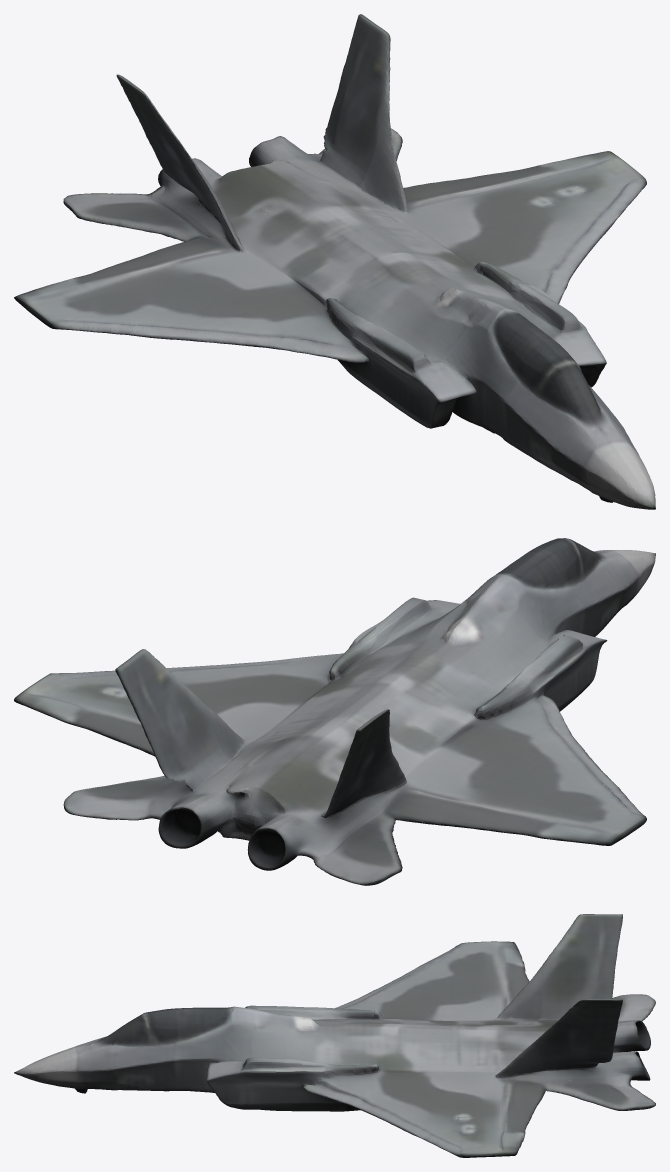
File: player_jet.glb
The picture shows the model from 3 angles, top to bottom: view 1: azimuth 30°, elevation 25°; view 2: azimuth 150°, elevation 25°; view 3: azimuth 270°, elevation 25°; orthographic projection. The views are drawn at different scales.
Visible parts, largest first — view 1: world; view 2: world; view 3: world.
Boxes of the visible parts, x1,y1,x2,y2 form: world: [14, 14, 655, 509]; world: [14, 538, 655, 885]; world: [14, 914, 655, 1157].
Size of the model in its own units: 0.7818 by 0.2335 by 0.9978.
1 material, 1 textured.
